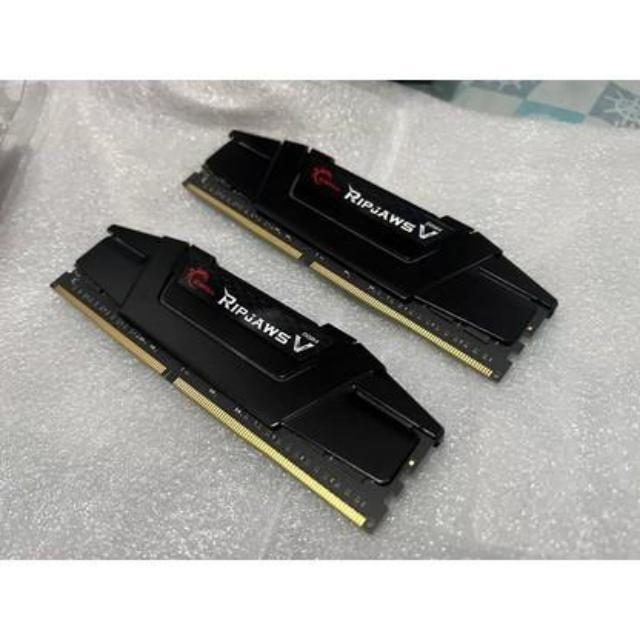RAM: (42, 220, 450, 528), (189, 115, 560, 397)
